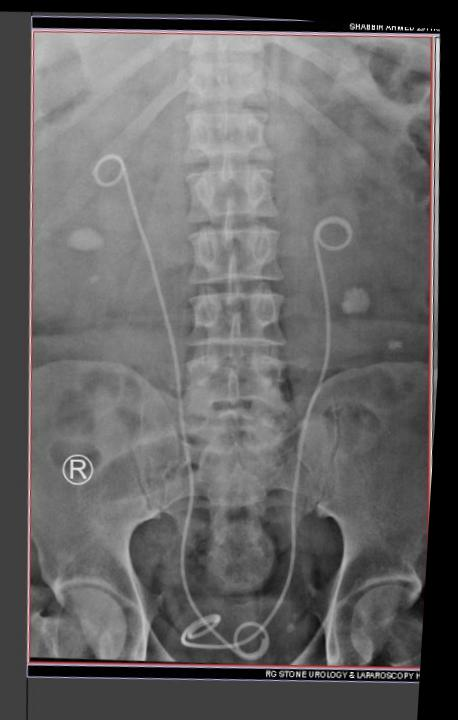vertebrae: (146, 80, 254, 159)
